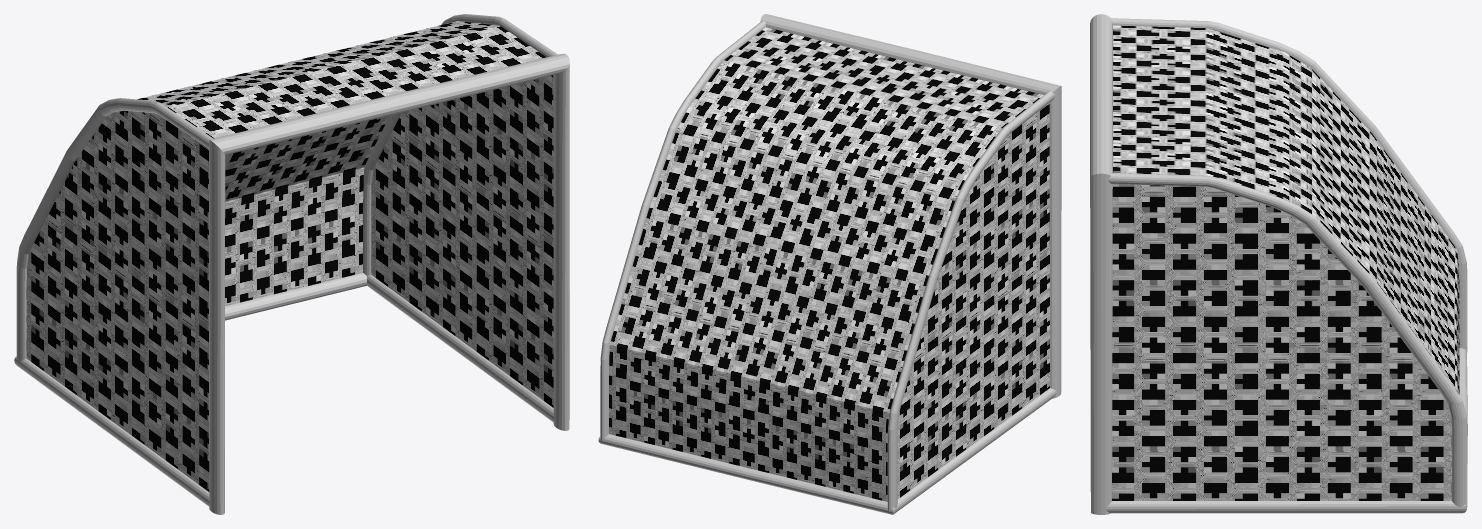
The model's file is sh-scopia-football-goal.glb.
The picture shows the model from 3 angles, left to right: view 1: azimuth 30°, elevation 25°; view 2: azimuth 150°, elevation 25°; view 3: azimuth 270°, elevation 25°; orthographic projection. The views are drawn at different scales.
Visible parts, largest first — view 1: net_Cylinder.001, bae_Cylinder; view 2: net_Cylinder.001, bae_Cylinder; view 3: net_Cylinder.001, bae_Cylinder.
Part boxes in pixels (x1,y1,x2,y2): net_Cylinder.001: (26, 21, 553, 491); bae_Cylinder: (14, 14, 569, 514); net_Cylinder.001: (609, 27, 1049, 501); bae_Cylinder: (598, 14, 1061, 514); net_Cylinder.001: (1112, 25, 1459, 500); bae_Cylinder: (1090, 14, 1467, 514).
Bounding box in the file's own units: 1 × 1 × 1.
Materials: 2 (1 with a texture image).
